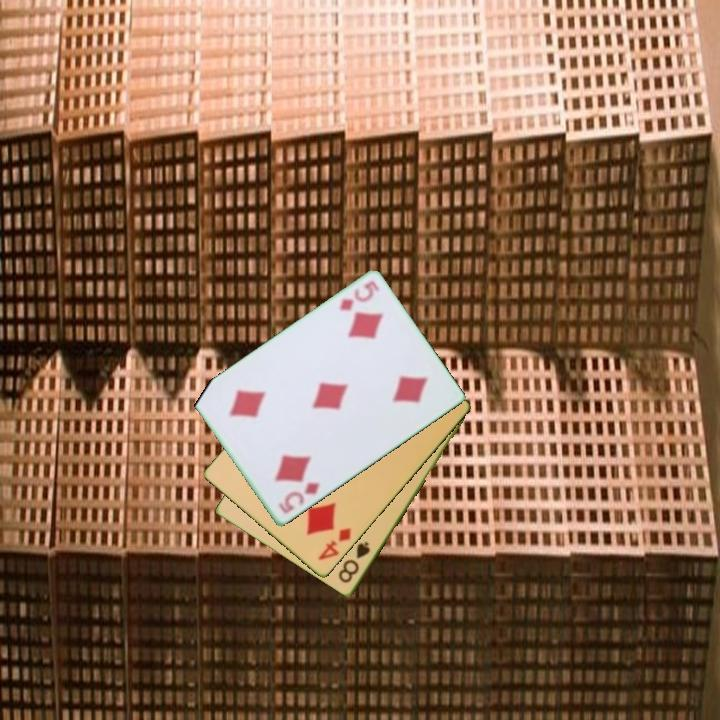4d: (314, 524, 354, 563)
5d: (275, 479, 323, 517), (335, 278, 382, 314)
8s: (335, 538, 373, 586)
